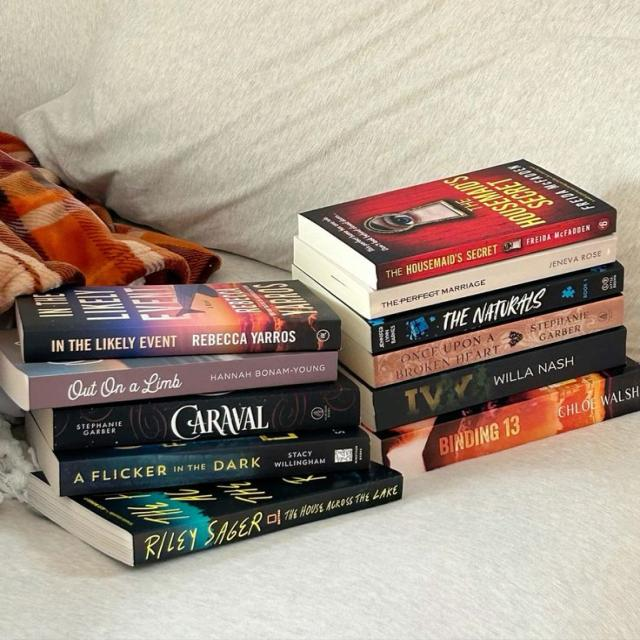book: (380, 369, 639, 479), (374, 328, 626, 433), (133, 474, 402, 569), (376, 296, 625, 388), (369, 268, 624, 354), (53, 386, 361, 451), (369, 239, 619, 319), (377, 208, 616, 289), (28, 353, 338, 408), (58, 443, 372, 497), (25, 322, 341, 362)
